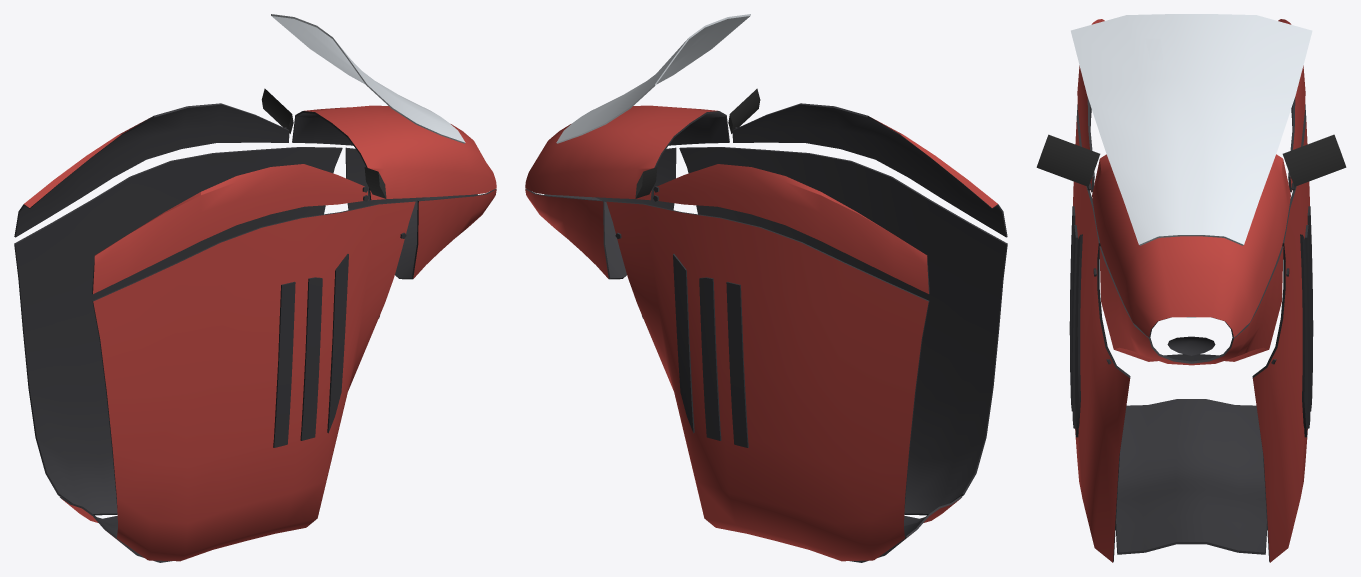
Rendered from race_lod1.glb.
3 renders of one model, left to right at view 1: azimuth 30°, elevation 25°; view 2: azimuth 150°, elevation 25°; view 3: azimuth 270°, elevation 25°, orthographic. The views are drawn at different scales.
Parts seen in each view (by area): view 1: race_lod1; view 2: race_lod1; view 3: race_lod1.
Part boxes in pixels (left/top/right/bottom): race_lod1: left=14, top=14, right=496, bottom=562; race_lod1: left=525, top=14, right=1007, bottom=562; race_lod1: left=1036, top=14, right=1346, bottom=562.
Bounding box in the file's own units: 1.02 × 1.05 × 0.5072.
